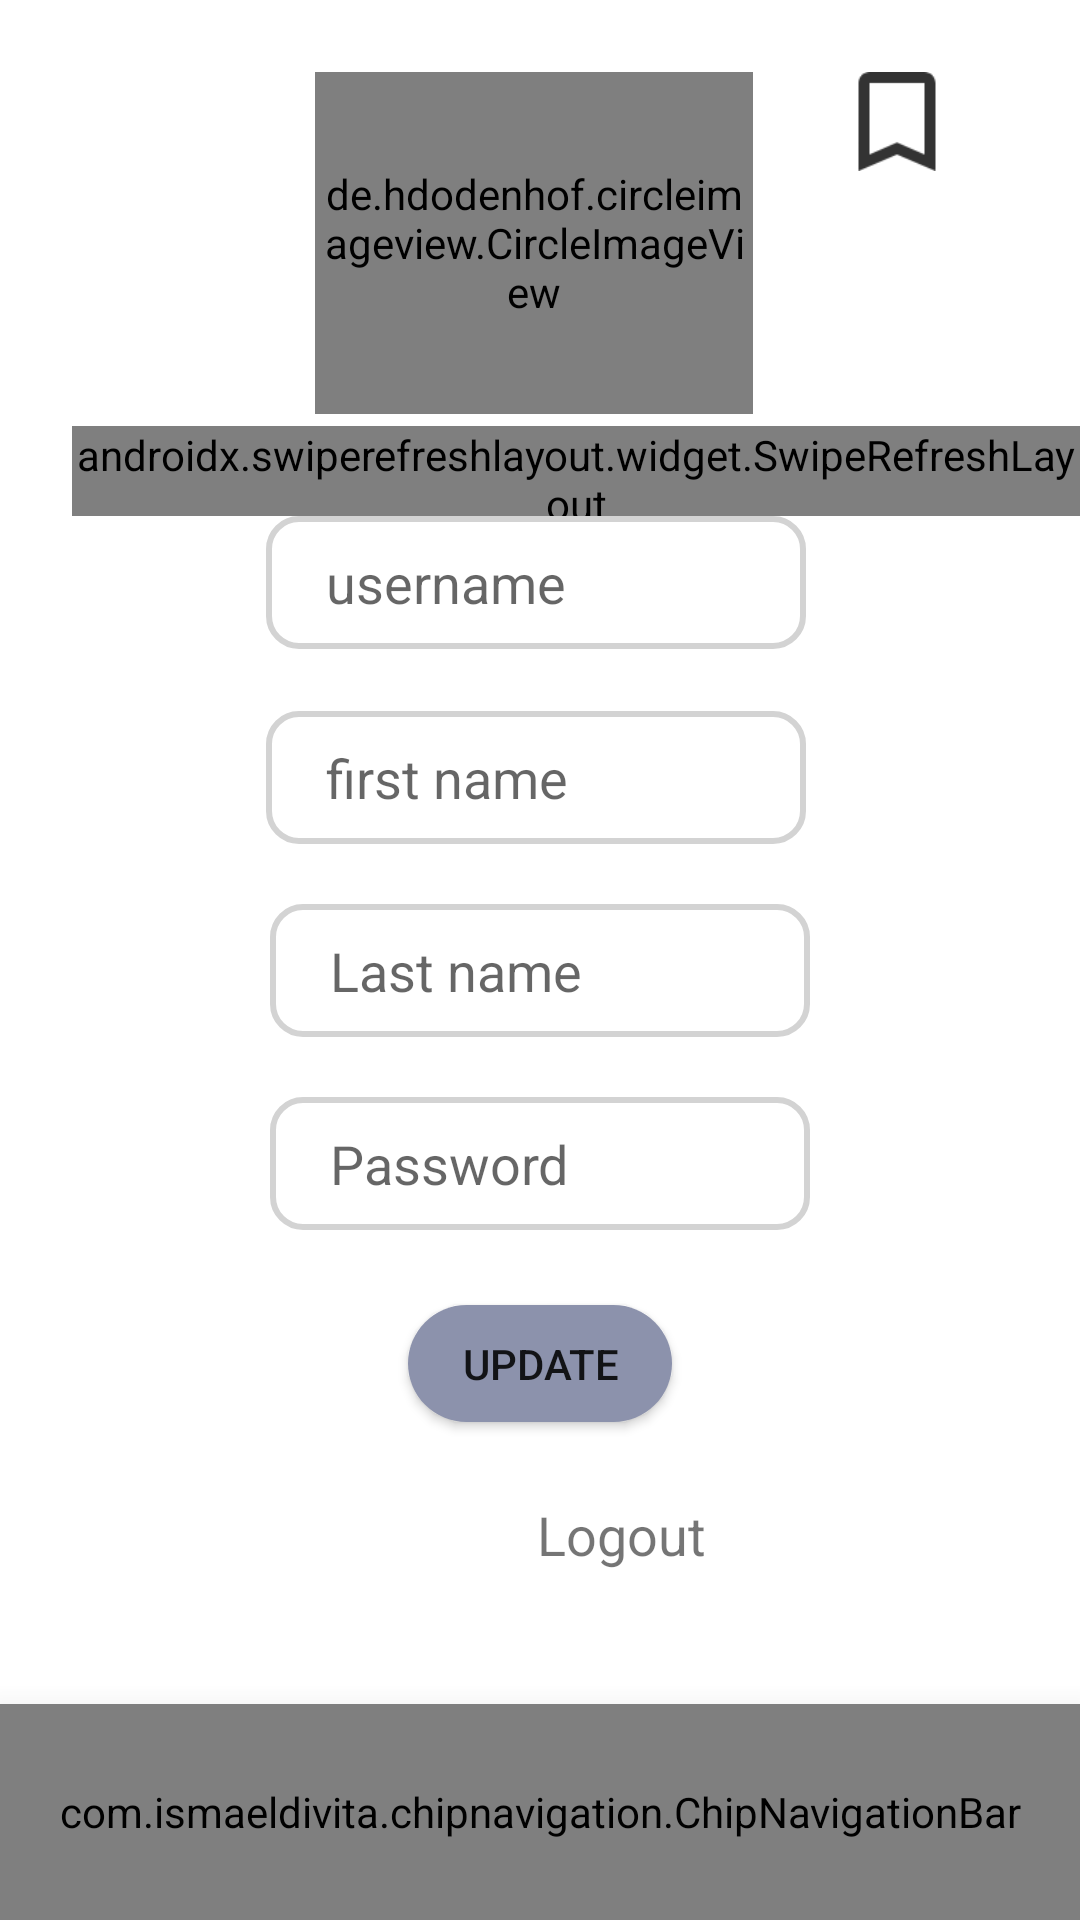

Icons on this 1080*1920 Android screen, each with its box as (left=x1, top=y1, right=x2, bottom=y2):
bookmark: (left=858, top=72, right=936, bottom=171)
